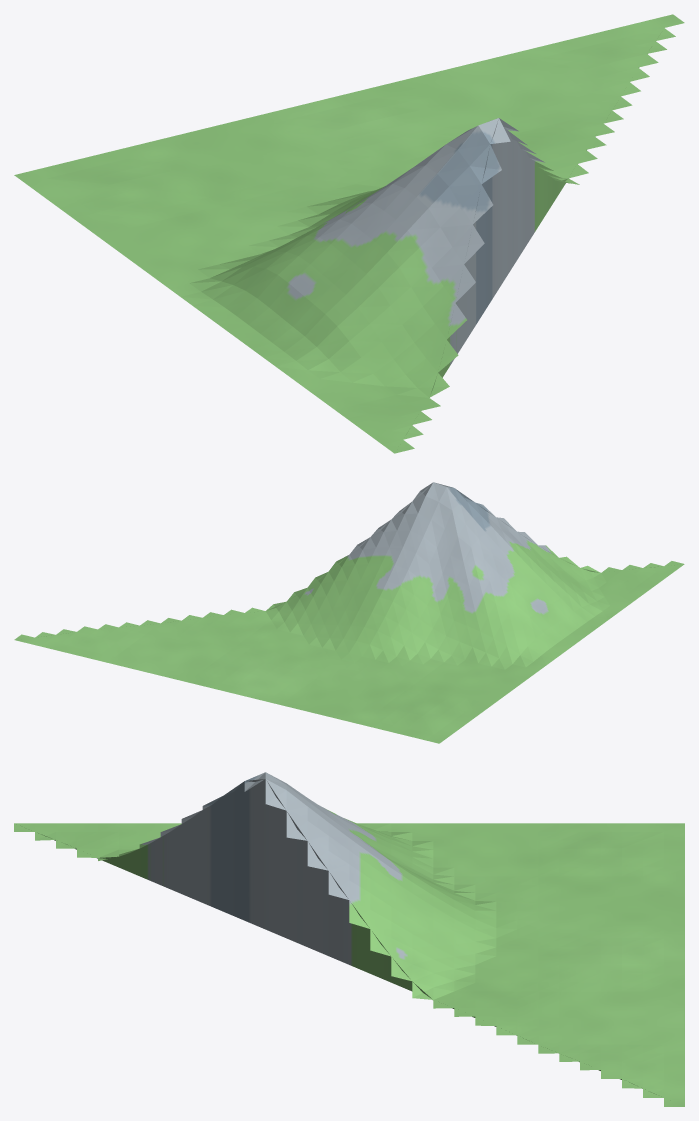
Rendered from Grass_RockyMountains_09_SW.obj.
The picture shows the model from 3 angles, top to bottom: view 1: azimuth 30°, elevation 25°; view 2: azimuth 150°, elevation 25°; view 3: azimuth 270°, elevation 25°; orthographic projection. The views are drawn at different scales.
Bounding box in the file's own units: 10 × 2.48 × 10.
1 material, 1 textured.
